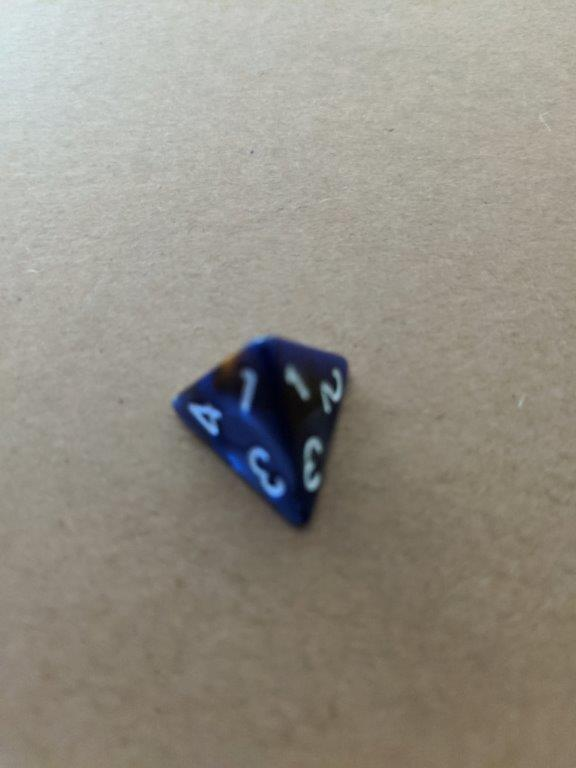d4-1: (165, 333, 353, 537)
